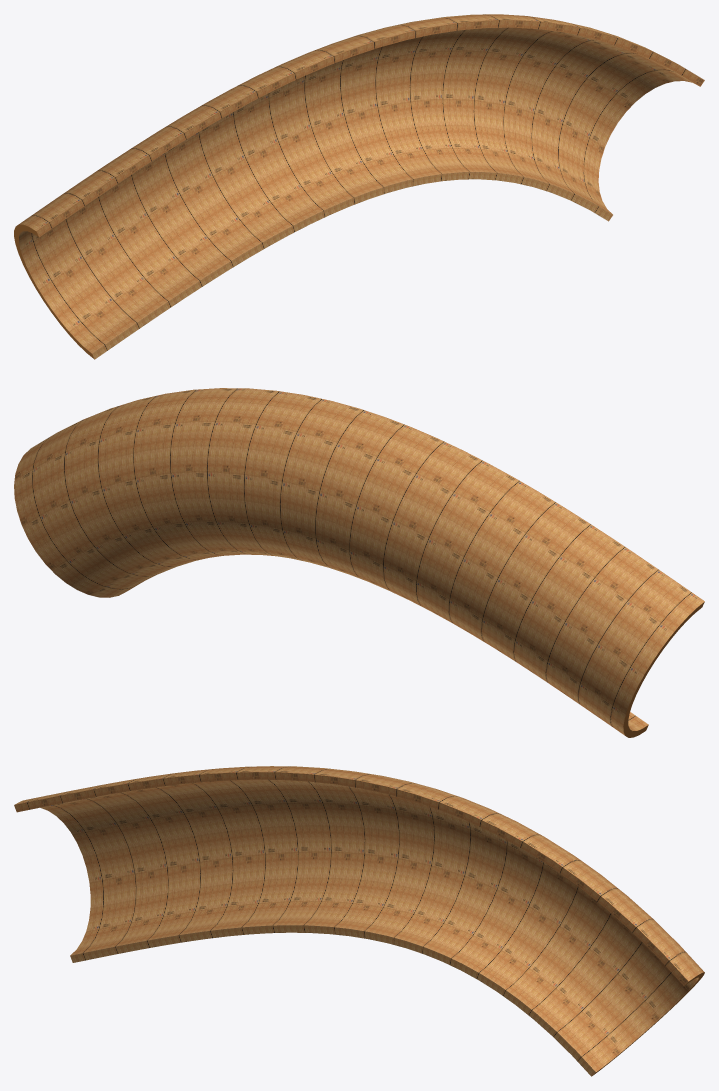
File: SAMRTrack-12a001.fbx
3 views of the same model, one above another, from view 1: azimuth 30°, elevation 25°; view 2: azimuth 150°, elevation 25°; view 3: azimuth 330°, elevation 25° (orthographic).
Parts seen in each view (by area): view 1: SAMRTrack-12a001; view 2: SAMRTrack-12a001; view 3: SAMRTrack-12a001.
Boxes of the visible parts, x1,y1,x2,y2 form: SAMRTrack-12a001: [14, 14, 704, 359]; SAMRTrack-12a001: [14, 388, 704, 737]; SAMRTrack-12a001: [14, 766, 704, 1076].
Size of the model in its own units: 127 by 45.59 by 14.11.
Materials: 1 (1 with a texture image).
